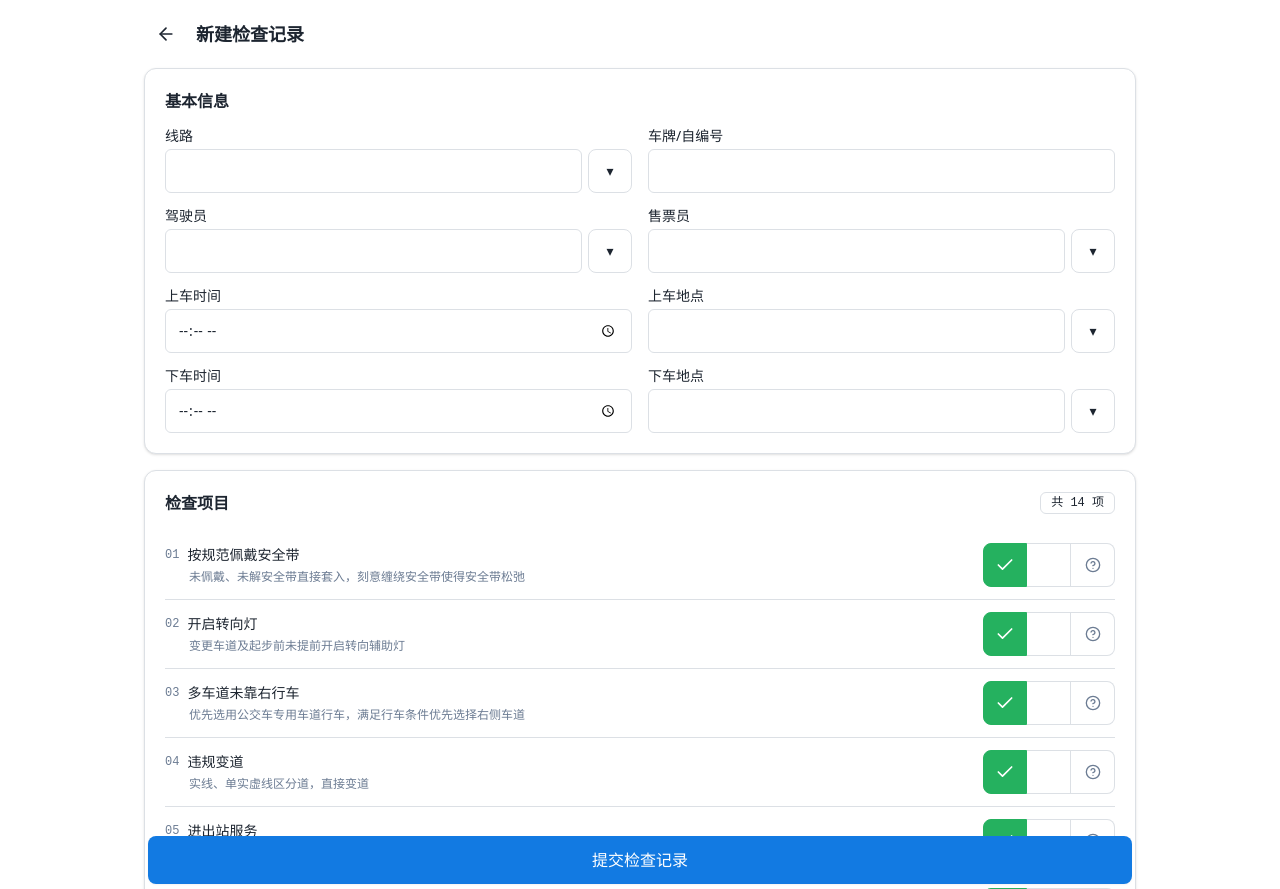
it: 应用冒烟测试 › 新建表单线路弹层支持车队两级浏览
What coordinates should you click on to do the following:
click the button named "选择线路"
I would click on:
 (610, 171)
Its box is [588,149,632,193].
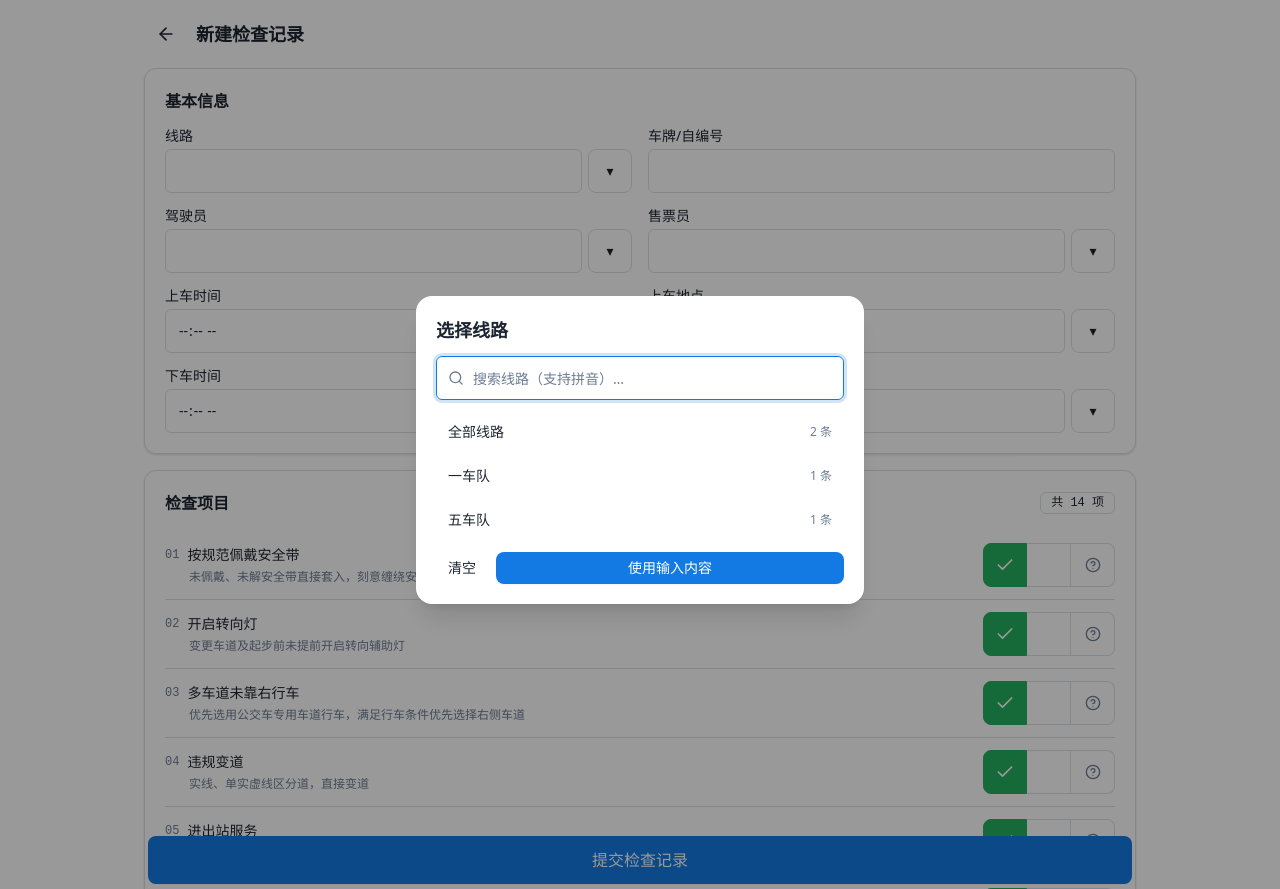
Now the heading "选择线路" is shown, box [436,318,508,342]
Now the text "全部线路" is shown, box [448,422,504,442]
What coordinates should you click on to do the following:
click the text "一车队"
I would click on:
 (469, 476)
Its box is [448,466,490,486].
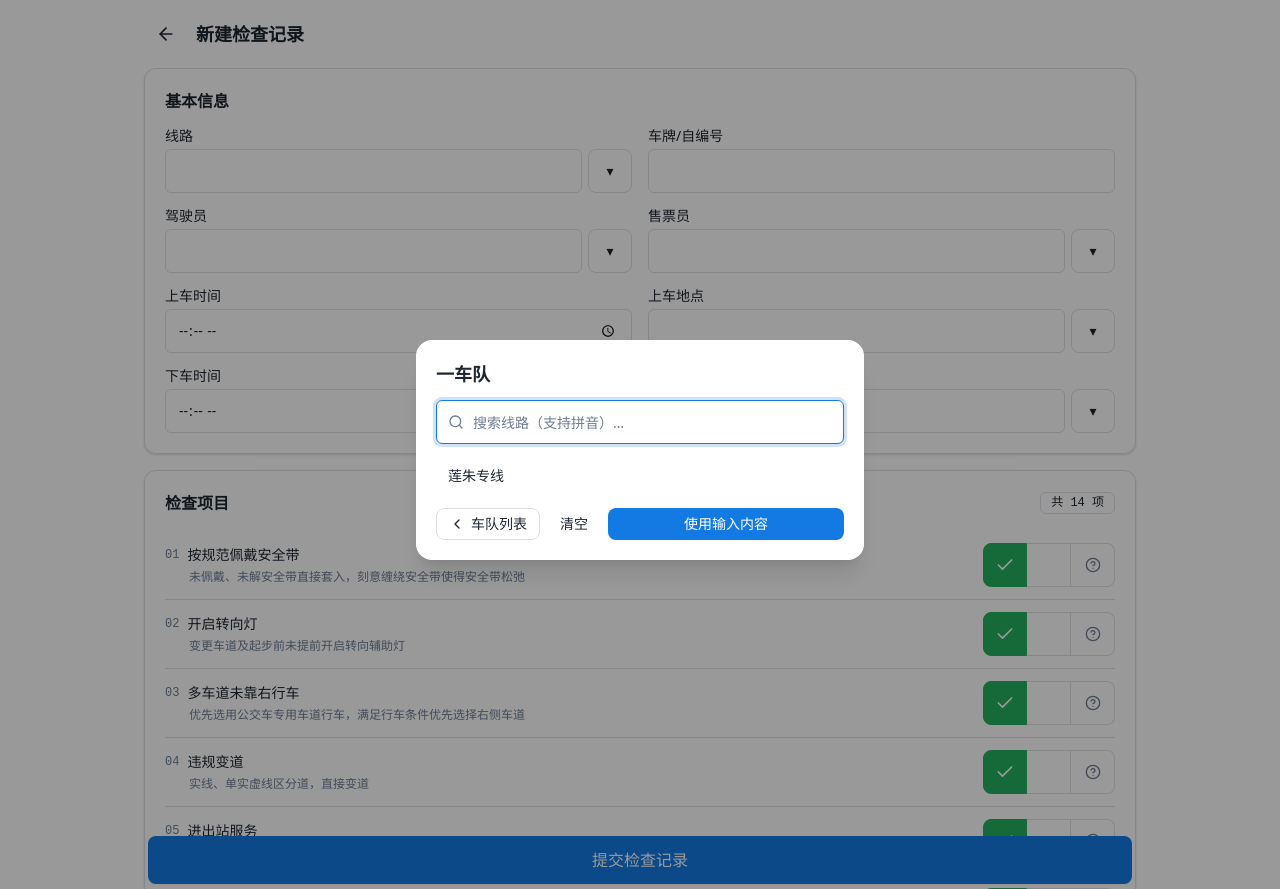
Now the button "莲朱专线" is shown, box [436,456,844,496]
